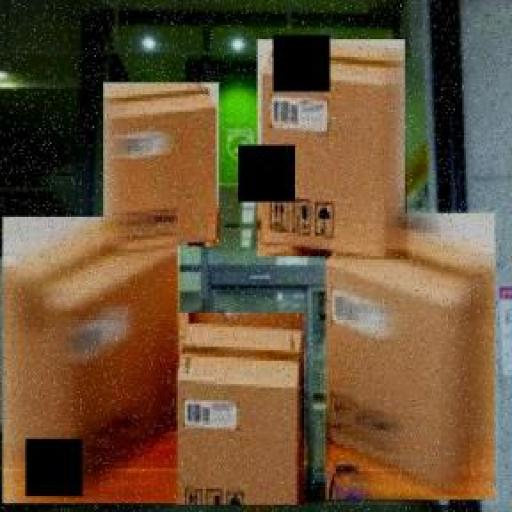box: (0, 212, 183, 510), (324, 209, 498, 506), (256, 38, 407, 260), (174, 308, 308, 510), (102, 81, 222, 250)
